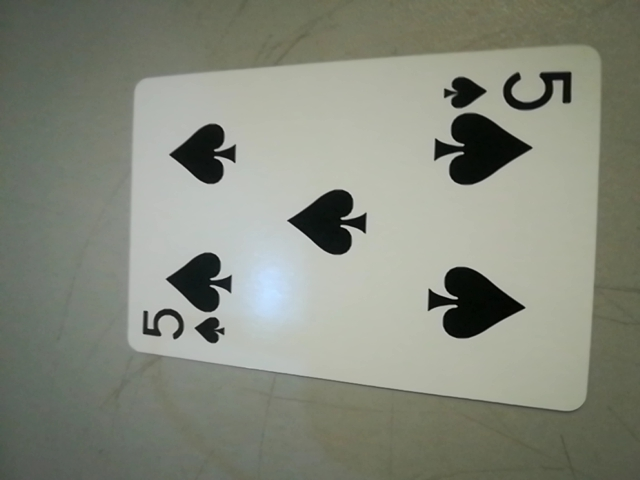ht 5: (437, 64, 583, 120)
